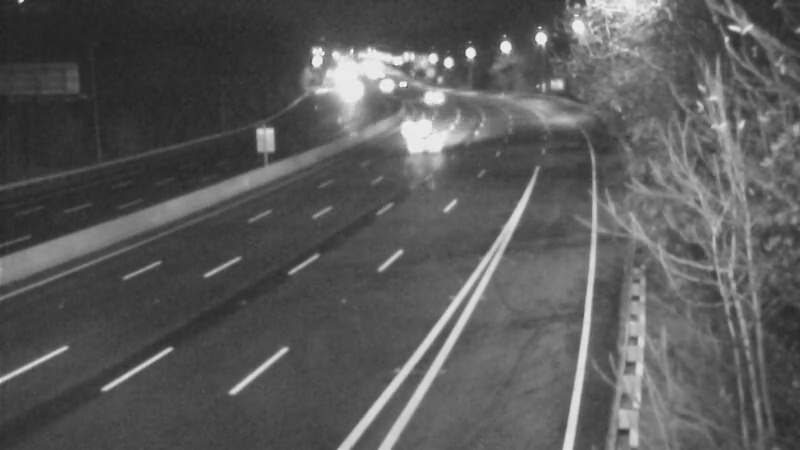vehicle: (359, 62, 409, 112), (402, 73, 452, 123), (391, 102, 441, 152), (400, 115, 450, 165)
